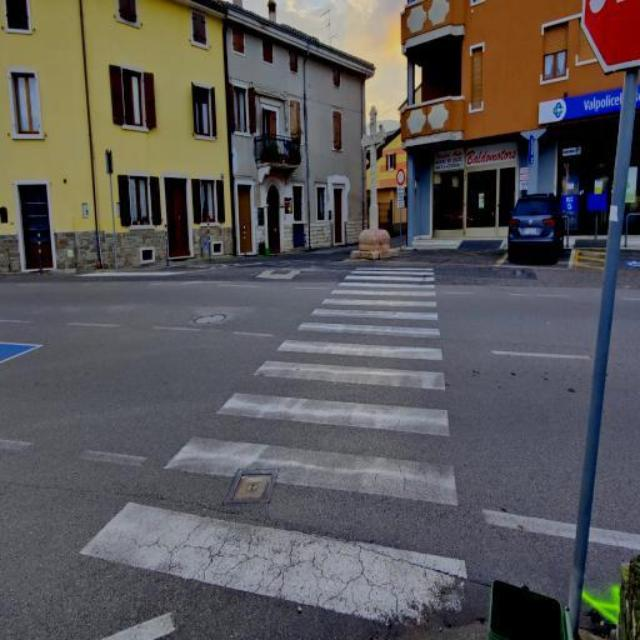sidewalk: (79, 265, 468, 640)
